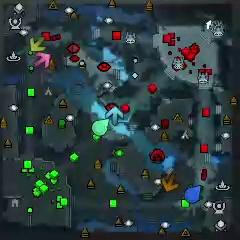p1: (185, 185, 202, 204)
p2: (92, 118, 110, 136)
x1: (35, 53, 51, 69)
x2: (30, 36, 46, 52)
x3: (106, 106, 124, 126)
x5: (161, 173, 179, 192)
